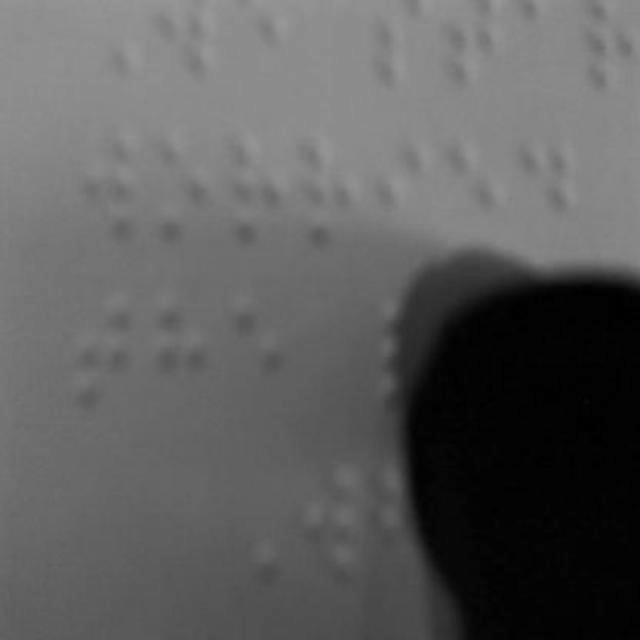braiile: (296, 444, 368, 590), (297, 120, 369, 252), (146, 282, 212, 426), (147, 120, 219, 250), (228, 282, 294, 422), (72, 279, 136, 423), (522, 122, 590, 255), (76, 116, 142, 252), (224, 121, 292, 253), (450, 119, 512, 257), (374, 122, 436, 252)
